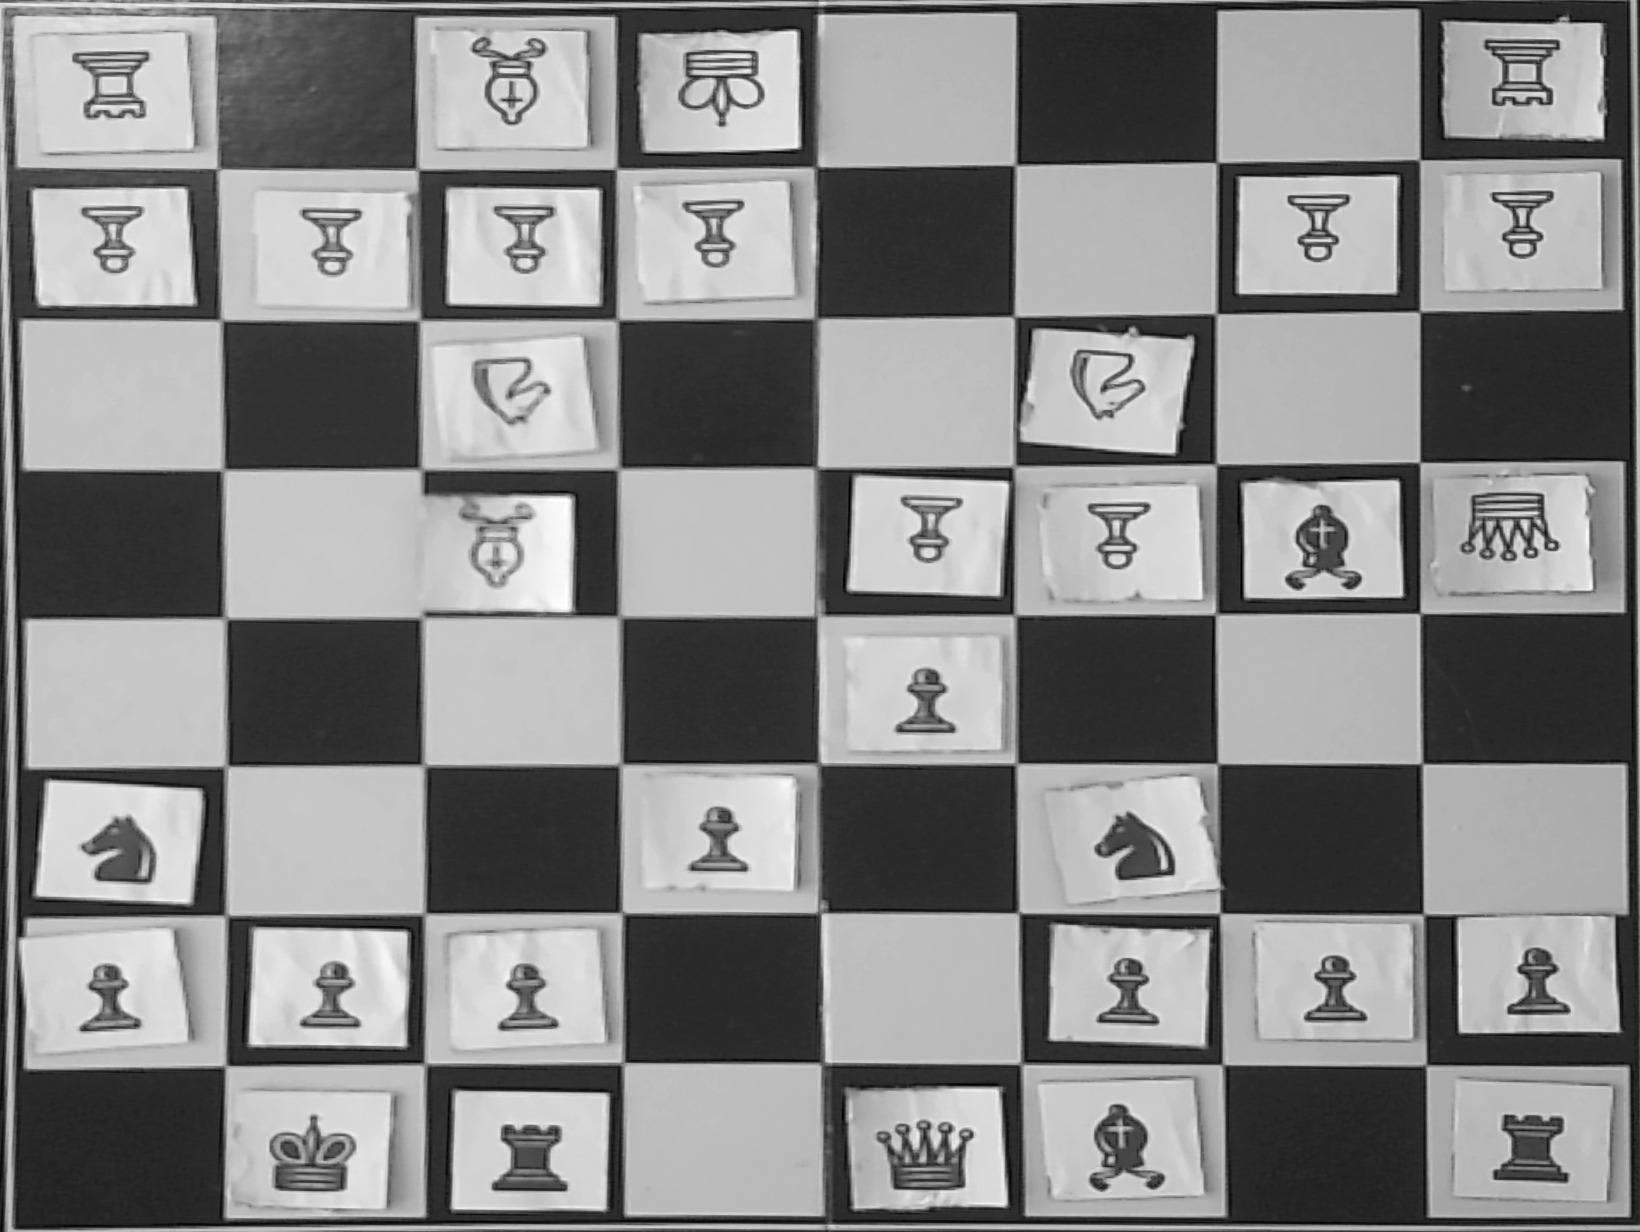b_bishop: (1250, 478, 1394, 597), (1048, 1081, 1192, 1198)
b_king: (245, 1096, 384, 1206)
b_knight: (1063, 791, 1193, 894), (54, 792, 184, 896)
b_pawn: (465, 937, 582, 1042), (1070, 934, 1186, 1039), (652, 780, 769, 884), (1478, 927, 1595, 1030)
b_queen: (852, 1090, 994, 1207)
b_rook: (1460, 1088, 1602, 1194), (460, 1094, 602, 1200)
w_bishop: (448, 31, 577, 148), (432, 492, 560, 608)
w_king: (651, 44, 786, 144)
w_knight: (1028, 336, 1170, 445), (439, 346, 580, 453)
w_pawn: (859, 480, 986, 582), (1060, 490, 1187, 593), (463, 194, 589, 296)
w_queen: (1439, 484, 1582, 586)
w_rook: (52, 48, 170, 142), (1461, 34, 1580, 127)
